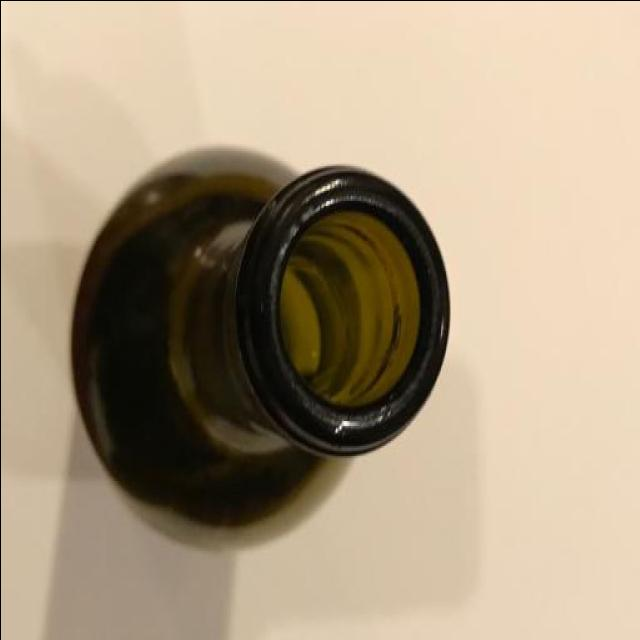glass: (58, 127, 461, 564)
